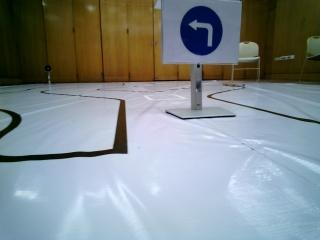left: (162, 0, 236, 61)
